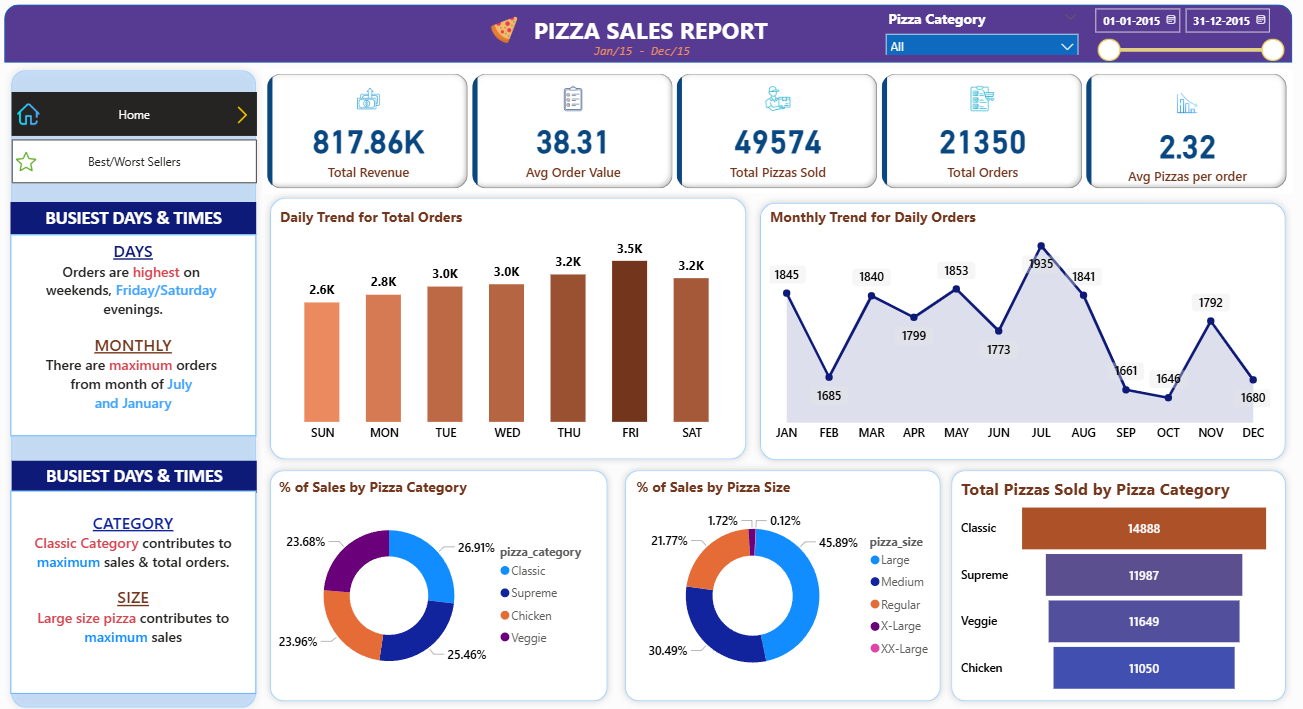

This screenshot's page, from the dashboard's own definition file:
{"tool":"powerbi","page":{"name":"Home","canvas":[1500,820],"ordinal":0},"visuals":[{"type":"shape","box":[12.9,75,295.7,744.3],"z":0},{"type":"cardVisual","fields":{"Data":["pizza_sales_excel_file.Total Revenue","pizza_sales_excel_file.Avg Order Value","pizza_sales_excel_file.Total Pizzas Sold","pizza_sales_excel_file.Total Orders","pizza_sales_excel_file.Avg Pizzas per order"]},"box":[308.3,83.3,1176.7,141.7],"z":1000},{"type":"shape","box":[12.9,8.6,1472.1,66.4],"z":2000},{"type":"textbox","box":[612.9,14.3,281.4,45.7],"z":3000},{"type":"textbox","box":[681.9,47.5,135.6,34.4],"z":4000},{"type":"image","box":[561.3,16.7,46,41.3],"z":5000},{"type":"shape","box":[308.3,221.7,560,315],"z":6000},{"type":"columnChart","title":"Daily Trend for Total Orders","fields":{"Category":["pizza_sales_excel_file.Order Day"],"Y":["pizza_sales_excel_file.Total Orders"]},"box":[322.2,240.3,530.6,277.8],"z":7000},{"type":"shape","box":[868.3,226.7,616.7,310],"z":8000},{"type":"areaChart","title":"Monthly Trend for Daily Orders","fields":{"Y":["pizza_sales_excel_file.Total Orders"],"Category":["pizza_sales_excel_file.Order Month"]},"box":[883.3,240.3,581.9,277.8],"z":9000},{"type":"shape","box":[1086.7,533.5,398.3,280],"z":10000},{"type":"shape","box":[715,533.3,376.7,280],"z":11000},{"type":"shape","box":[308.3,533.5,401.7,280],"z":12000},{"type":"donutChart","title":"% of Sales by Pizza Category","fields":{"Y":["pizza_sales_excel_file.Total Revenue"],"Category":["pizza_sales_excel_file.pizza_category"]},"box":[321.7,548.3,371.7,250],"z":13000},{"type":"donutChart","title":"% of Sales by Pizza Size","fields":{"Y":["pizza_sales_excel_file.Total Revenue"],"Category":["pizza_sales_excel_file.pizza_size"]},"box":[730,548.9,356.7,250],"z":14000},{"type":"funnel","title":"Total Pizzas Sold by Pizza Category","fields":{"Category":["pizza_sales_excel_file.pizza_category"],"Y":["pizza_sales_excel_file.Total Pizzas Sold"]},"box":[1101.2,548.8,363.8,252.5],"z":15000},{"type":"textbox","box":[20,234.4,281.1,36.7],"z":16000},{"type":"textbox","box":[20,271.3,280.7,230],"z":17000},{"type":"textbox","box":[21.3,529.3,280,36.7],"z":18000},{"type":"textbox","box":[20.7,564.7,280.7,232],"z":19000},{"type":"slicer","fields":{"Values":["pizza_sales_excel_file.pizza_category"]},"box":[1009.3,8.6,240,57.9],"z":20000},{"type":"slicer","fields":{"Values":["pizza_sales_excel_file.order_date"]},"box":[1247.5,3.3,236.7,75],"z":21000},{"type":"pageNavigator","box":[21.4,108.6,280,50],"z":22000},{"type":"pageNavigator","box":[21.4,162.9,280,50],"z":23000},{"type":"image","box":[269,120,32,30],"z":24000},{"type":"image","box":[23,111,35,45],"z":25000},{"type":"image","box":[22,163,33,51],"z":26000}]}

Visuals, with their boxes in screenshot pixels (x1, y1, x2, y2), scaled from the page's 1500x820 canvas onto the 1303x709 screenshot:
shape: [11, 65, 268, 708]
cardVisual - pizza_sales_excel_file.Total Revenue x pizza_sales_excel_file.Avg Order Value: [268, 72, 1290, 195]
shape: [11, 7, 1290, 65]
textbox: [532, 12, 777, 52]
textbox: [592, 41, 710, 71]
image: [488, 14, 528, 50]
shape: [268, 192, 754, 464]
"Daily Trend for Total Orders" columnChart: [280, 208, 741, 448]
shape: [754, 196, 1290, 464]
"Monthly Trend for Daily Orders" areaChart: [767, 208, 1273, 448]
shape: [944, 461, 1290, 703]
shape: [621, 461, 948, 703]
shape: [268, 461, 617, 703]
"% of Sales by Pizza Category" donutChart: [279, 474, 602, 690]
"% of Sales by Pizza Size" donutChart: [634, 475, 944, 691]
"Total Pizzas Sold by Pizza Category" funnel: [957, 475, 1273, 693]
textbox: [17, 203, 262, 234]
textbox: [17, 235, 261, 433]
textbox: [19, 458, 262, 489]
textbox: [18, 488, 262, 689]
slicer - pizza_sales_excel_file.pizza_category: [877, 7, 1085, 57]
slicer - pizza_sales_excel_file.order_date: [1084, 3, 1289, 68]
pageNavigator: [19, 94, 262, 137]
pageNavigator: [19, 141, 262, 184]
image: [234, 104, 261, 130]
image: [20, 96, 50, 135]
image: [19, 141, 48, 185]
